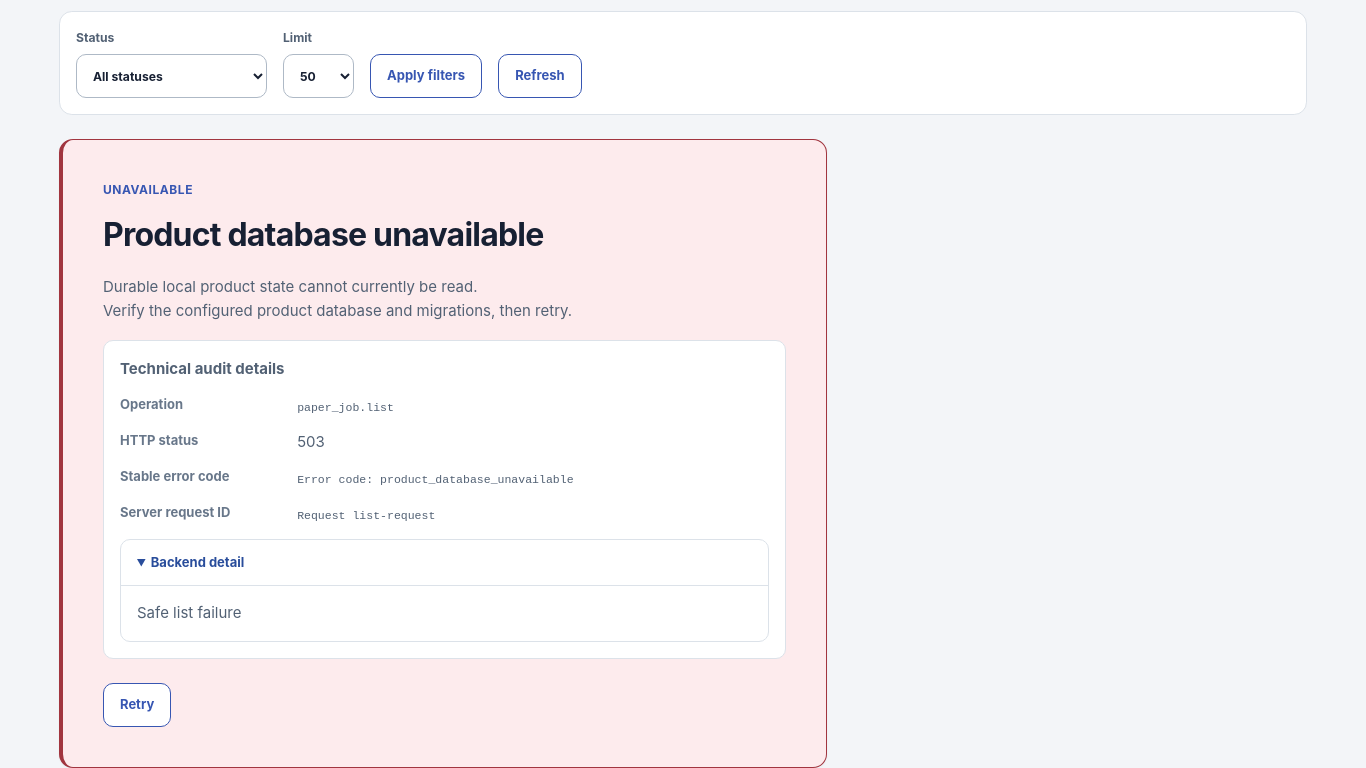
Test case: PaperJobListView › renders bounded product_database_unavailable with request ID and manual retry
(page scrolled)
Expected: the heading "Product database unavailable" is shown, [103,214,543,254]
Expected: the text "Request list-request" is shown, [297,509,435,522]
Click the button "Retry" at (137, 705), box [103,683,171,727]
(page scrolled)
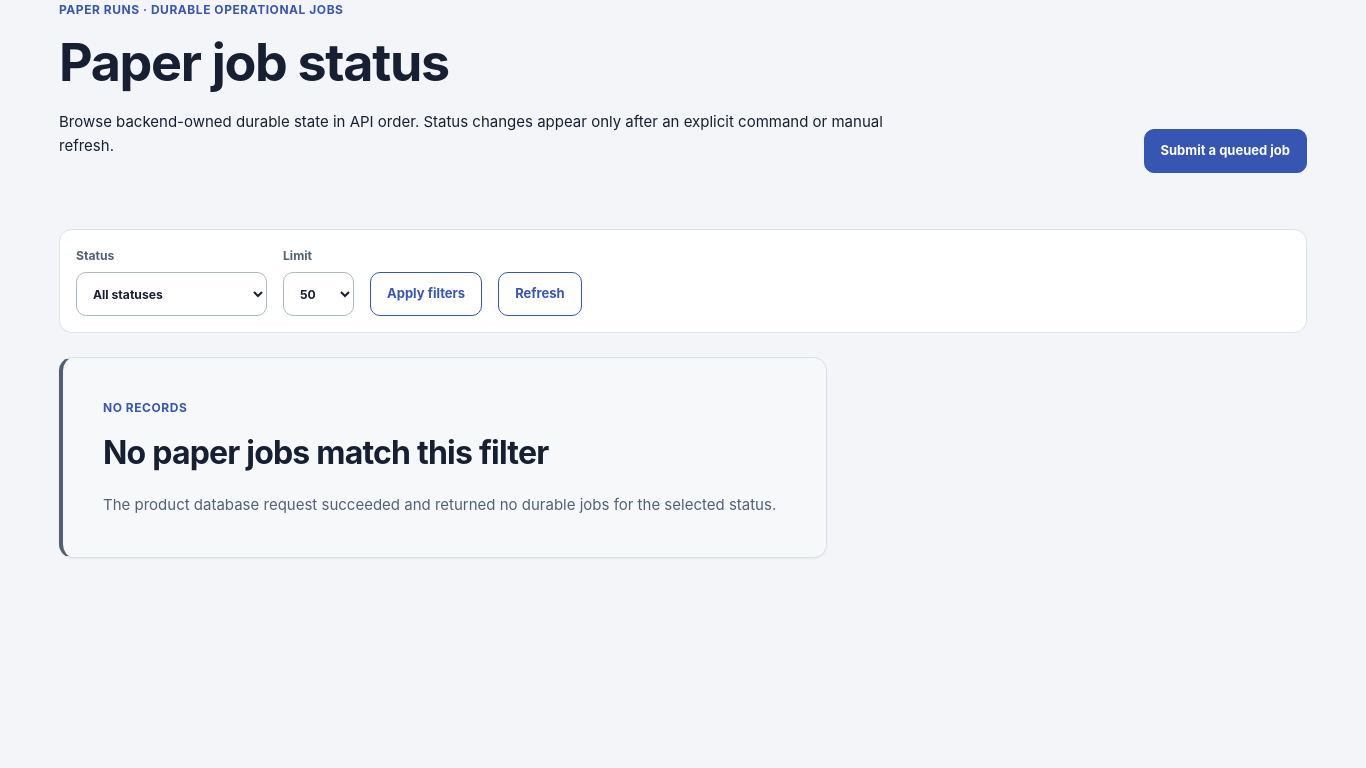
Expected: the heading "No paper jobs match this filter" is shown, [103,432,548,472]
